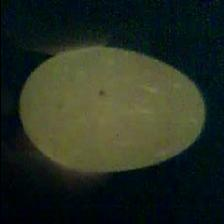infertile: (18, 46, 206, 172)
